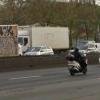Motorcycle: (57, 46, 95, 78)
